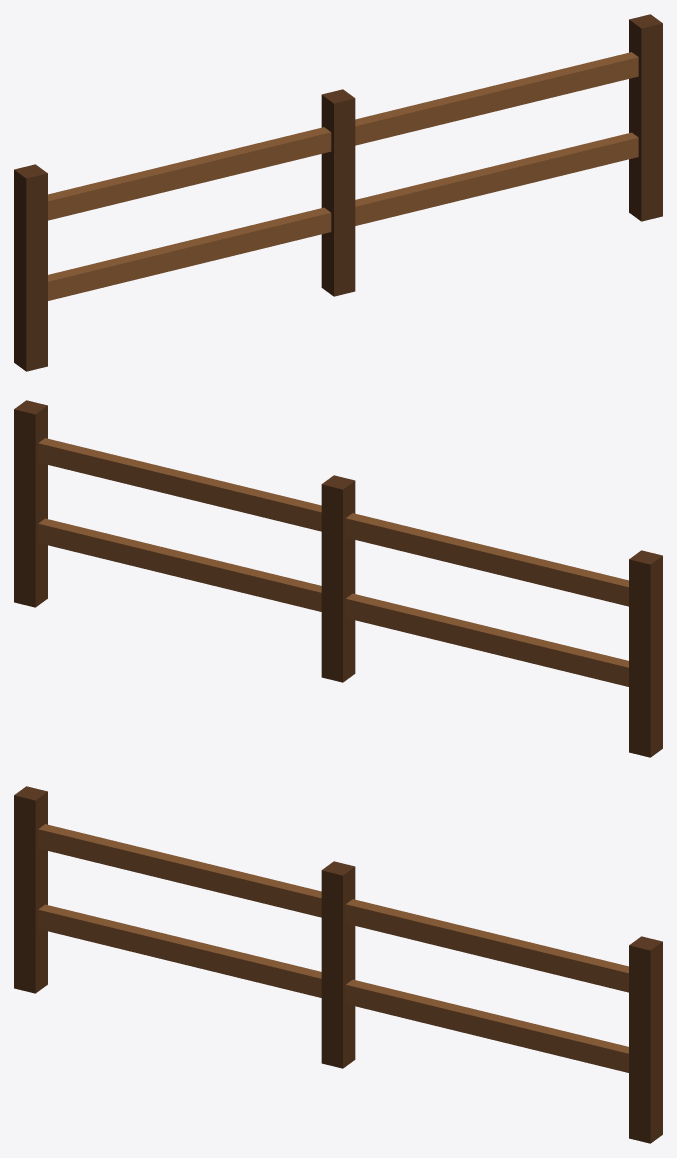
File: fence.glb
3 views of the same model, one above another, from view 1: azimuth 30°, elevation 25°; view 2: azimuth 150°, elevation 25°; view 3: azimuth 330°, elevation 25° (orthographic).
Parts seen in each view (by area): view 1: FenceMesh; view 2: FenceMesh; view 3: FenceMesh.
Boxes of the visible parts, box(x1,y1,x2,y2) form: FenceMesh: box(14, 14, 662, 371); FenceMesh: box(14, 400, 662, 757); FenceMesh: box(14, 786, 662, 1143).
Bounding box in the file's own units: 4.14 × 1.2 × 0.14.
